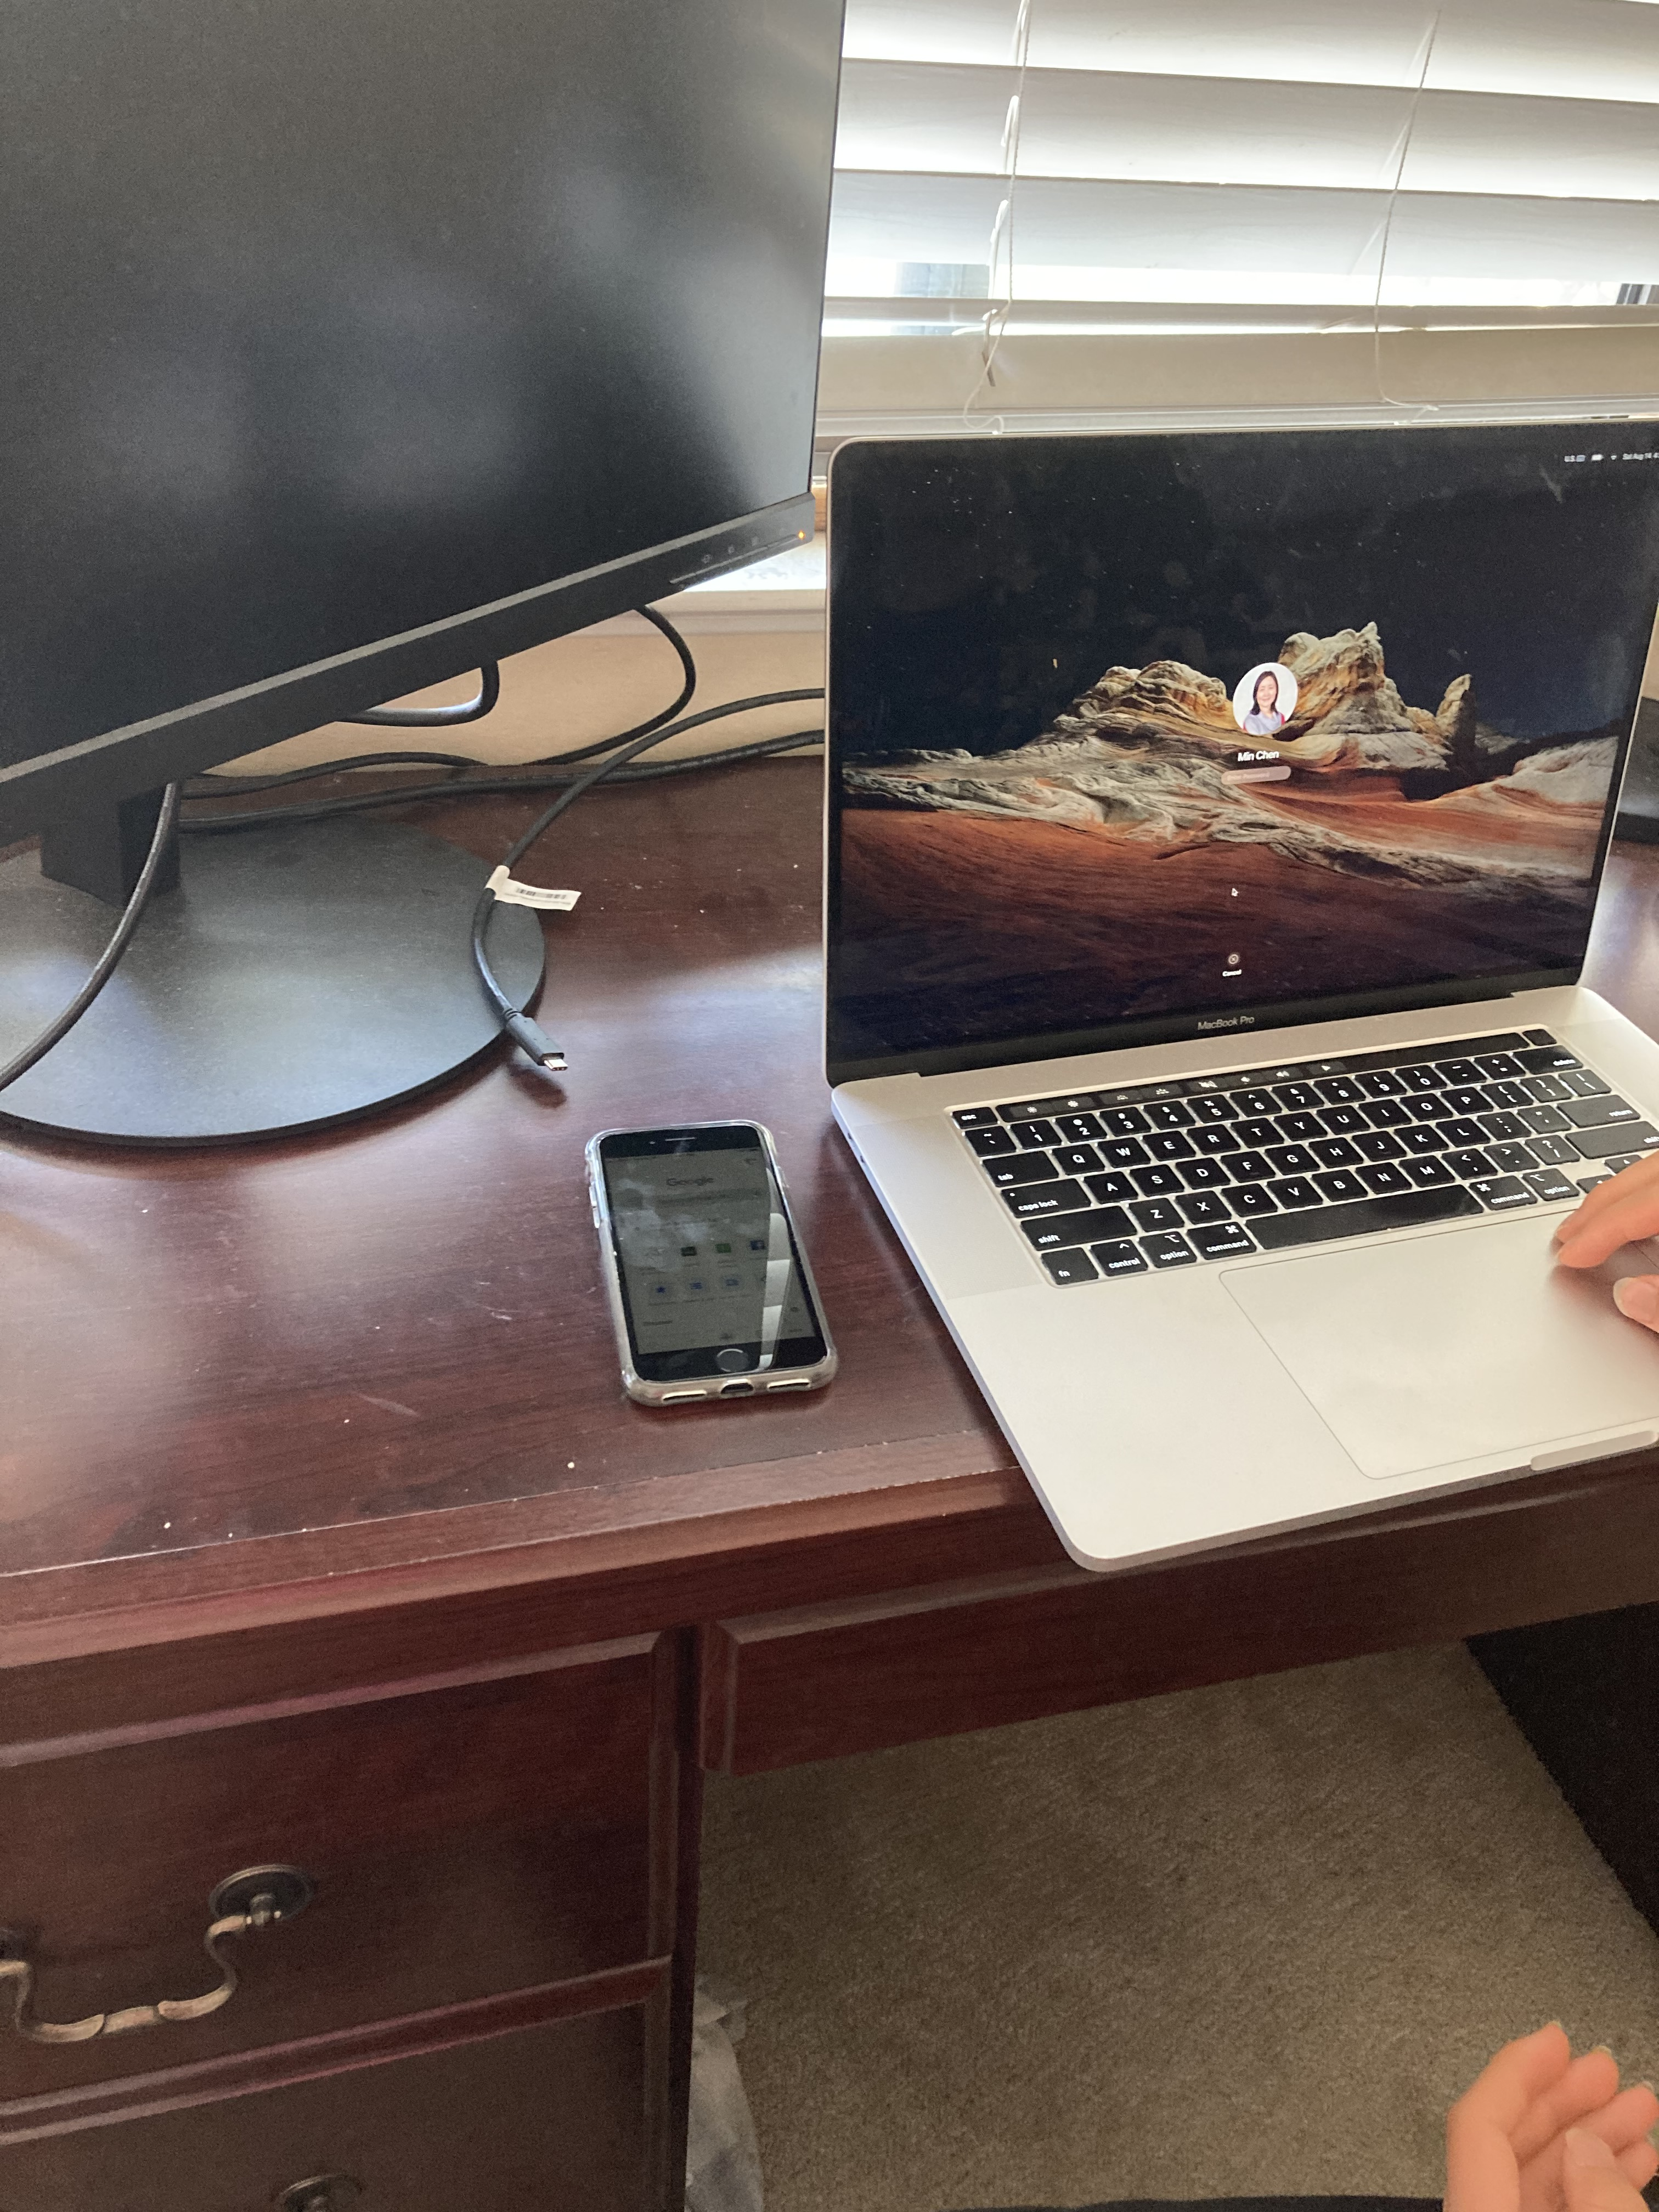Cell Phone: (592, 1123, 850, 1421)
